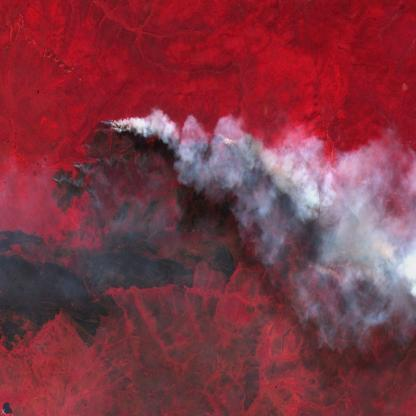fire: (43, 101, 388, 288)
